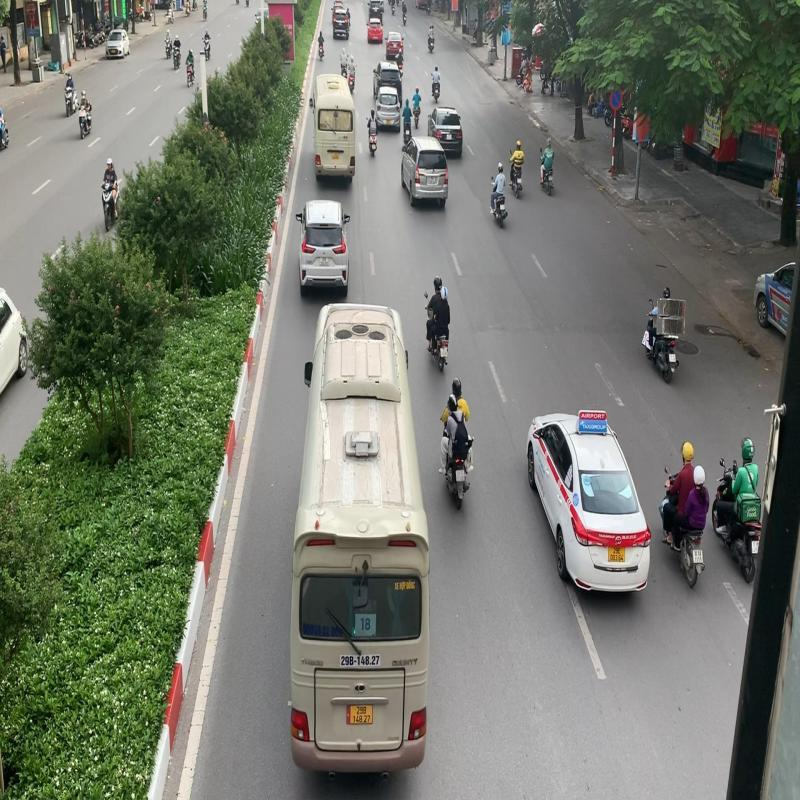helmet: (680, 440, 694, 466), (742, 437, 756, 459), (694, 464, 706, 486), (452, 378, 463, 397), (448, 393, 458, 413), (752, 540, 760, 554)
licenseplate: (693, 549, 704, 564), (456, 469, 466, 482)
motorcyclist: (658, 440, 710, 588), (712, 435, 762, 584), (439, 376, 475, 513)
